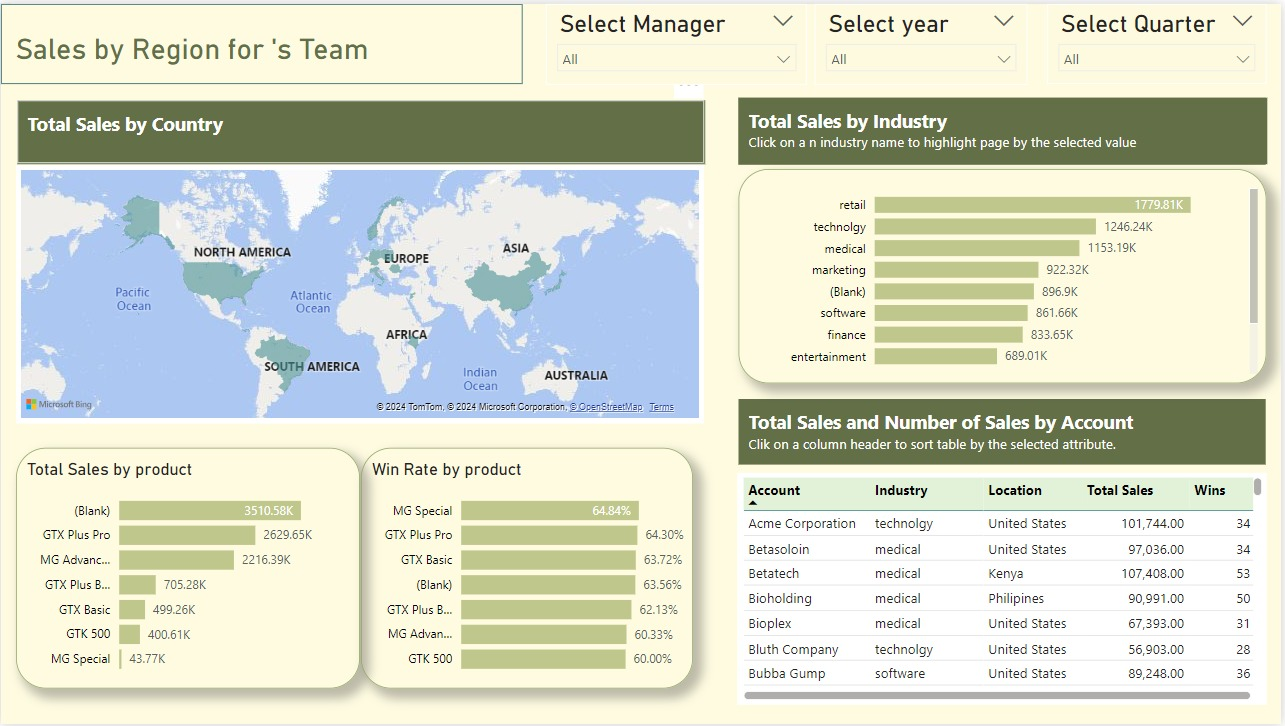

This screenshot's page, from the dashboard's own definition file:
{"tool":"powerbi","page":{"name":"Sales by Region","canvas":[1280,720],"ordinal":3},"visuals":[{"type":"cardVisual","fields":{"Data":["measures1.Welcome Sales Region"]},"box":[0,0,790.5,60.7],"z":0},{"type":"textbox","box":[736.9,94,528.6,66.7],"z":0,"group":"g1"},{"type":"textbox","box":[736.9,395.2,527.4,65.5],"z":1000},{"type":"textbox","box":[16,96,688,64],"z":2000},{"type":"group","id":"g1","title":"Group 1","box":[736.9,94,528.6,66.7],"z":3000},{"type":"barChart","fields":{"Category":["accounts.sector"],"Y":["measures1.Total Sales"]},"box":[737,164.6,528.1,214],"z":4000},{"type":"barChart","fields":{"Category":["products.product"],"Y":["measures1.Total Sales"]},"box":[15.5,444,344,240.5],"z":5000},{"type":"tableEx","fields":{"Values":["accounts.account","accounts.sector","accounts.office_location","measures1.Total Sales","measures1.Wins"]},"box":[735.7,469.1,529.8,232.1],"z":6000},{"type":"barChart","fields":{"Category":["products.product"],"Y":["measures1.Win Rate"]},"box":[371.4,444,332.1,240.5],"z":7000},{"type":"filledMap","fields":{"Category":["accounts.office_location"]},"box":[15.5,160.7,688.1,258.3],"z":8000},{"type":"slicer","fields":{"Values":["sales_teams.manager"]},"box":[814.3,0,171.3,61.5],"z":9000},{"type":"slicer","fields":{"Values":["Calendar.year"]},"box":[989.3,0,149.6,61.5],"z":10000},{"type":"slicer","fields":{"Values":["Calendar.Qrt"]},"box":[1141.2,0,138.8,61.2],"z":11000}]}

Visuals, with their boxes in screenshot pixels (x1, y1, x2, y2), scaled from the page's 1280x720 canvas onto the 1285x726 screenshot:
cardVisual - measures1.Welcome Sales Region: pyautogui.locateOnScreen(0, 0, 794, 61)
textbox: pyautogui.locateOnScreen(740, 95, 1270, 162)
textbox: pyautogui.locateOnScreen(740, 398, 1269, 465)
textbox: pyautogui.locateOnScreen(16, 97, 707, 161)
"Group 1" group: pyautogui.locateOnScreen(740, 95, 1270, 162)
barChart - accounts.sector x measures1.Total Sales: pyautogui.locateOnScreen(740, 166, 1270, 382)
barChart - products.product x measures1.Total Sales: pyautogui.locateOnScreen(16, 448, 361, 690)
tableEx - accounts.account x accounts.sector: pyautogui.locateOnScreen(739, 473, 1270, 707)
barChart - products.product x measures1.Win Rate: pyautogui.locateOnScreen(373, 448, 706, 690)
filledMap - accounts.office_location: pyautogui.locateOnScreen(16, 162, 706, 422)
slicer - sales_teams.manager: pyautogui.locateOnScreen(817, 0, 989, 62)
slicer - Calendar.year: pyautogui.locateOnScreen(993, 0, 1143, 62)
slicer - Calendar.Qrt: pyautogui.locateOnScreen(1146, 0, 1284, 62)
